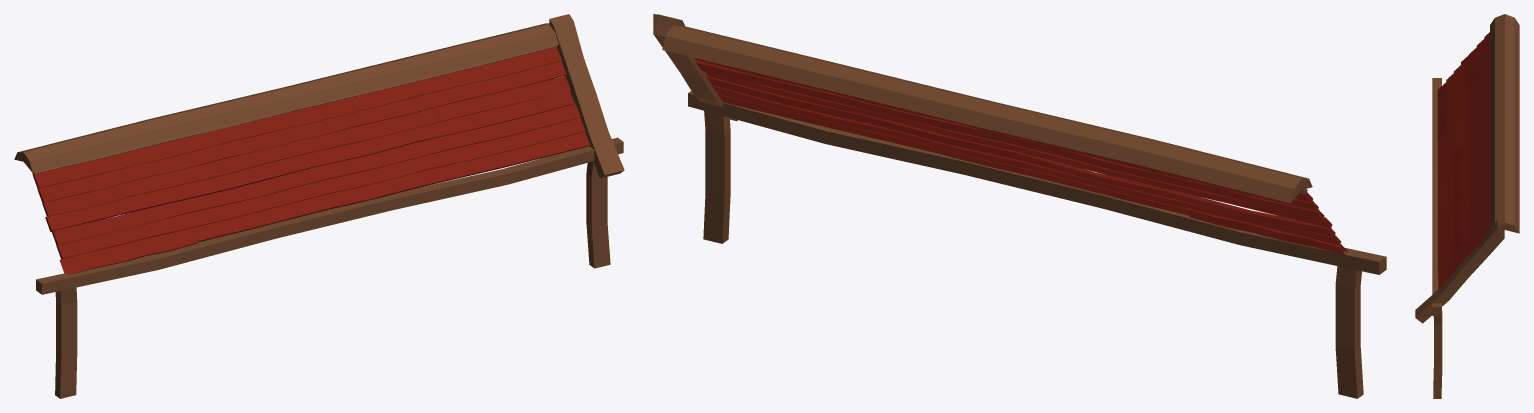
Rendered from Cati (1).fbx.
3 views of the same model, side by side, from view 1: azimuth 30°, elevation 25°; view 2: azimuth 150°, elevation 25°; view 3: azimuth 270°, elevation 25° (orthographic). The views are drawn at different scales.
Visible parts, largest first — view 1: cati.004; view 2: cati.004; view 3: cati.004.
Boxes of the visible parts, x1,y1,x2,y2 form: cati.004: [14, 14, 624, 398]; cati.004: [653, 14, 1386, 398]; cati.004: [1415, 14, 1519, 398].
Size of the model in its own units: 2252 by 804 by 435.
